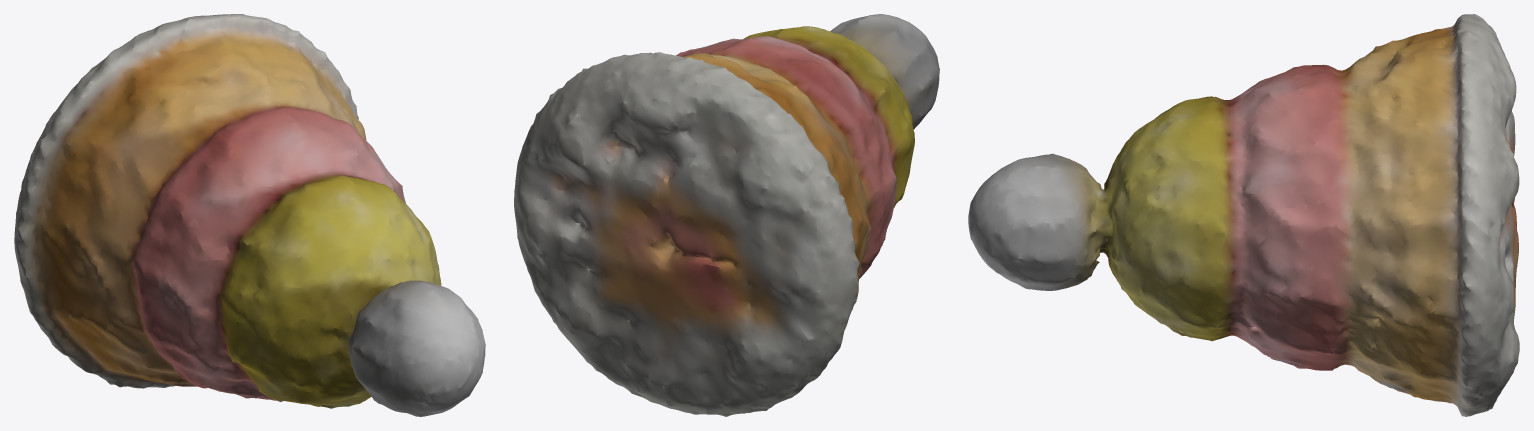
Rendered from chicken.glb.
3 views of the same model, side by side, from view 1: azimuth 30°, elevation 25°; view 2: azimuth 150°, elevation 25°; view 3: azimuth 270°, elevation 25° (orthographic). The views are drawn at different scales.
Size of the model in its own units: 0.7307 by 0.7265 by 0.9946.
